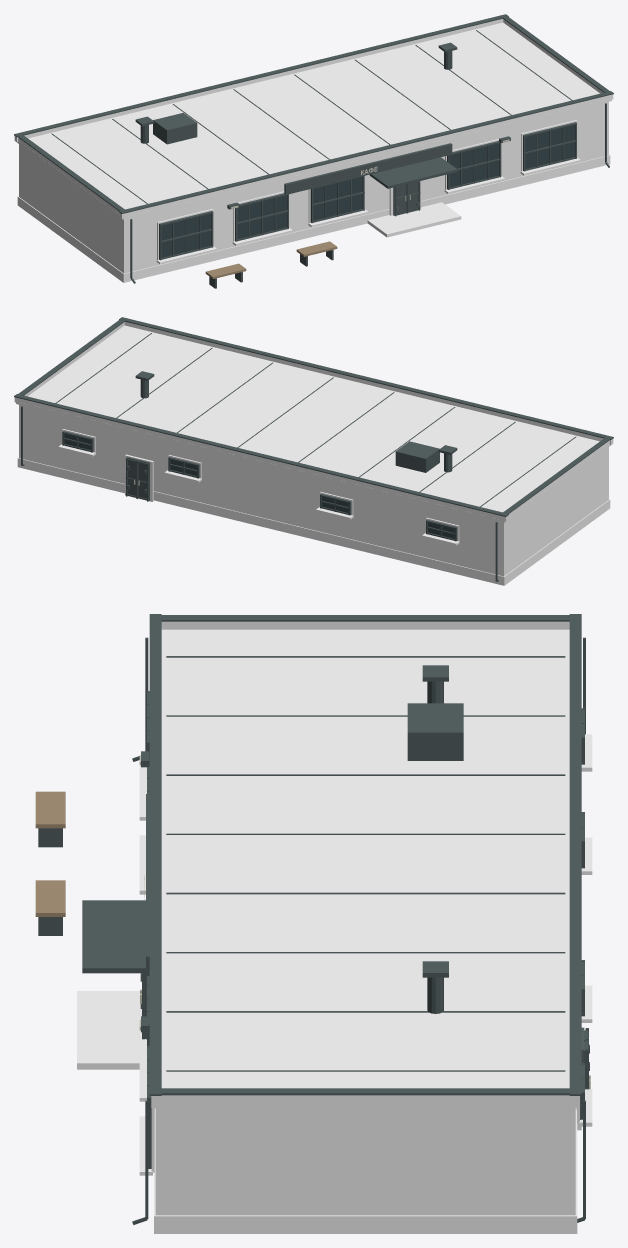
File: frontier_truck_cafe.glb
3 views of the same model, one above another, from view 1: azimuth 30°, elevation 25°; view 2: azimuth 150°, elevation 25°; view 3: azimuth 270°, elevation 25° (orthographic). The views are drawn at different scales.
Parts seen in each view (by area): view 1: frontier_truck_cafe; view 2: frontier_truck_cafe; view 3: frontier_truck_cafe.
Part boxes in pixels (bbox=[...]): frontier_truck_cafe: bbox=[14, 14, 613, 288]; frontier_truck_cafe: bbox=[14, 317, 613, 585]; frontier_truck_cafe: bbox=[35, 614, 592, 1233].
Size of the model in its own units: 32.46 by 5.65 by 15.89.
